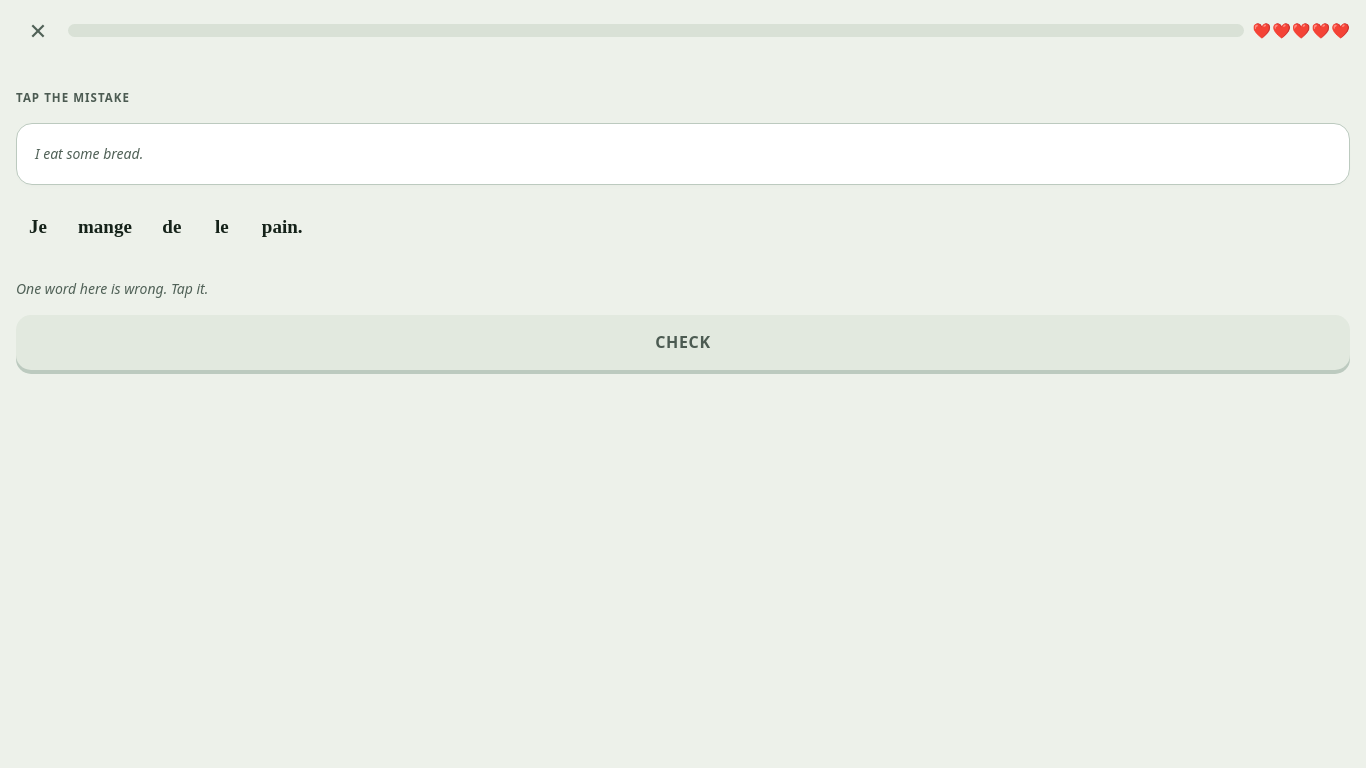
Test: RoundView: every question kind can be answered › fix: a wrong answer costs a heart, opens the why-card, and Got it moves on
Click the button "Je" at (38, 227), box [16, 201, 60, 252]
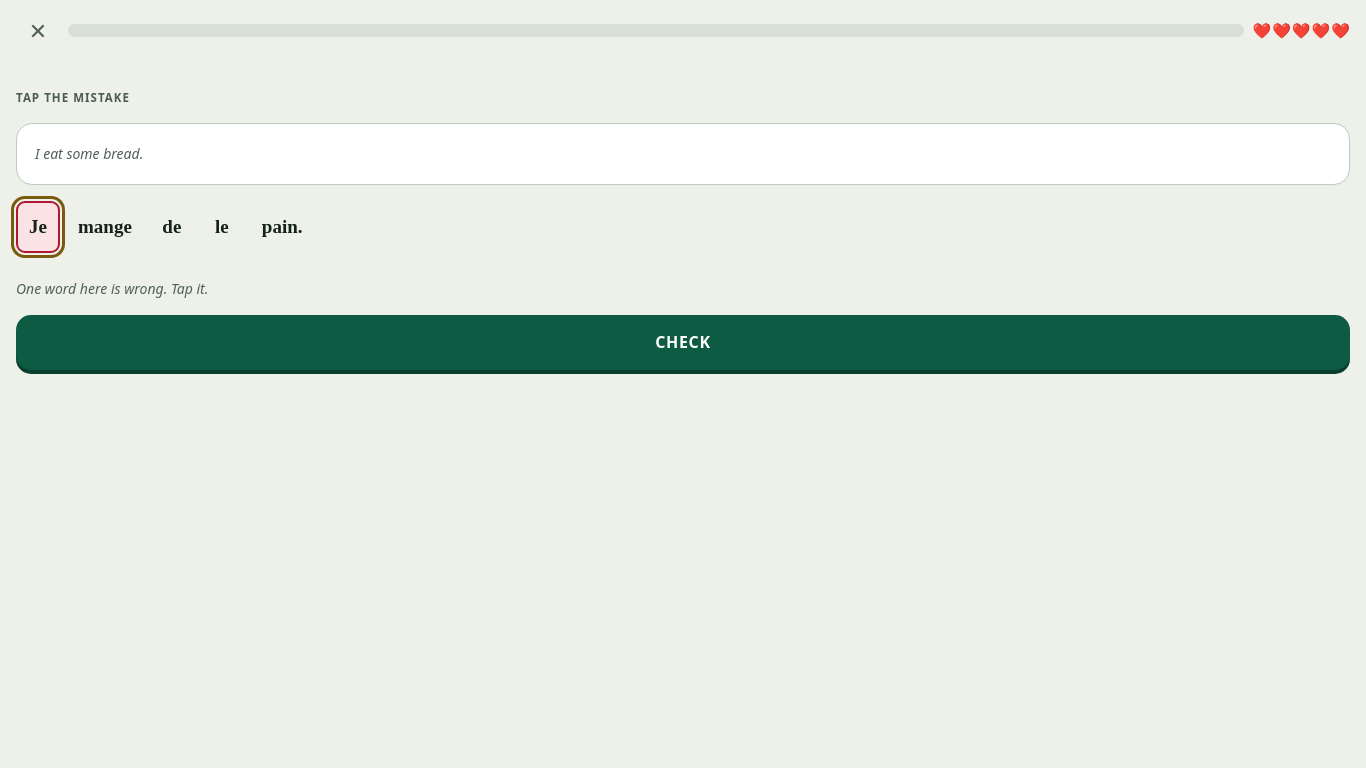
Click the button "Check" at (683, 342), box [16, 315, 1350, 370]
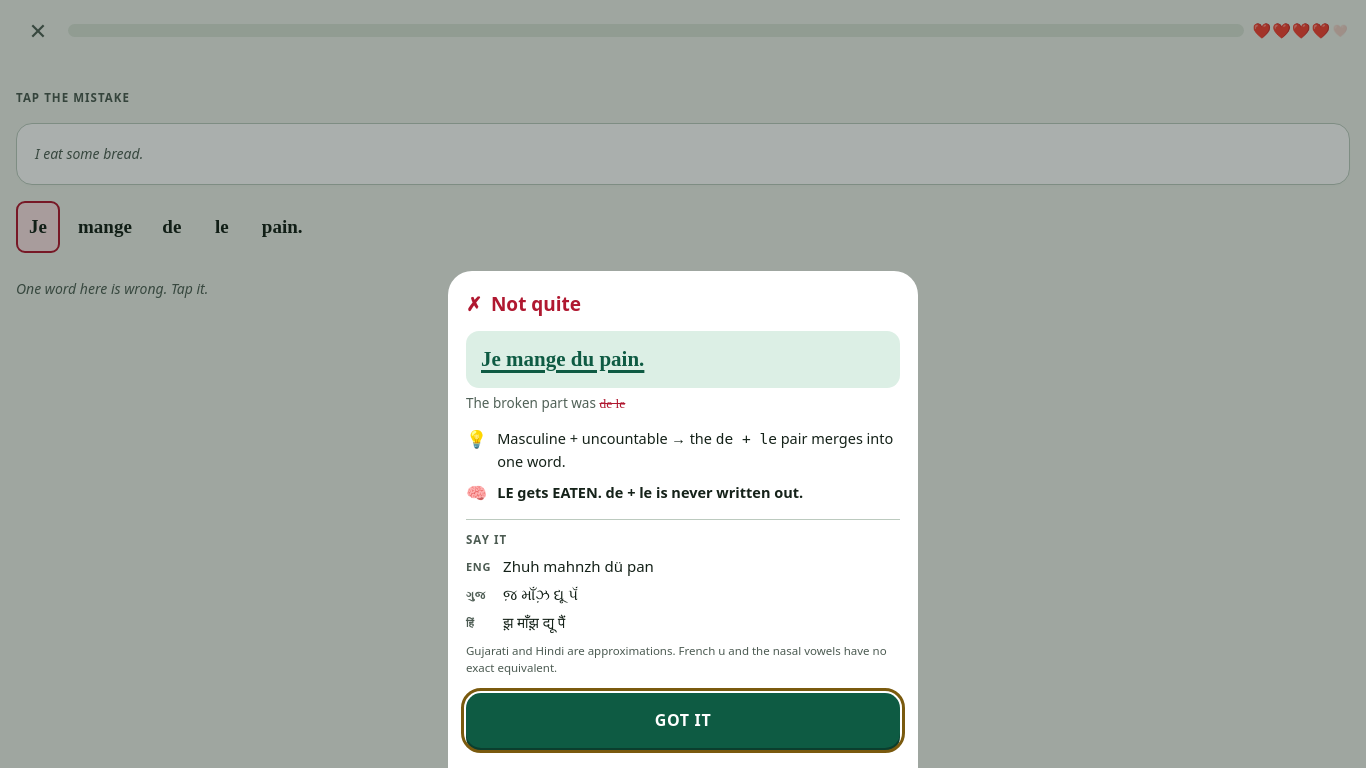
Check: the picture named "4 of 5 hearts left" is shown, box [1252, 22, 1350, 38]
Click the button "Got it" at (683, 720), box [466, 693, 900, 748]
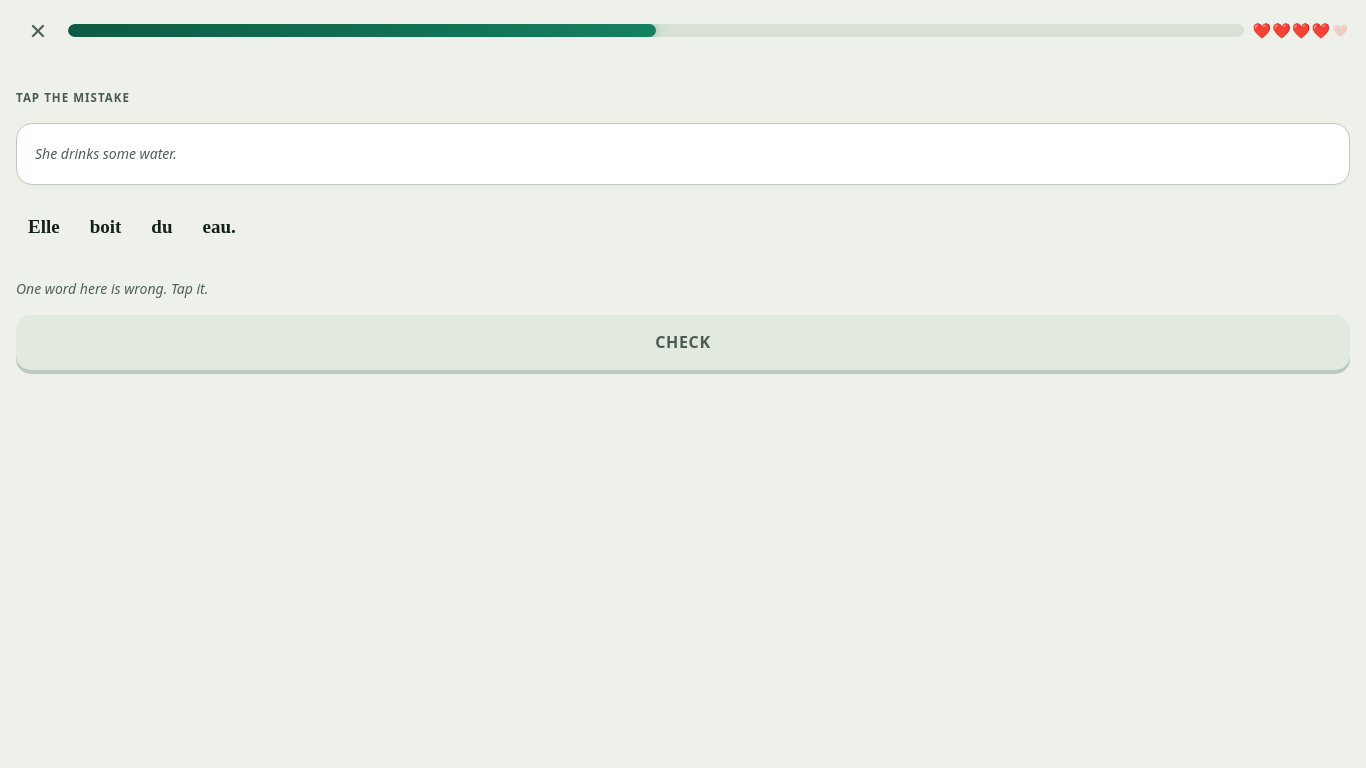
Check: the dialog is gone
